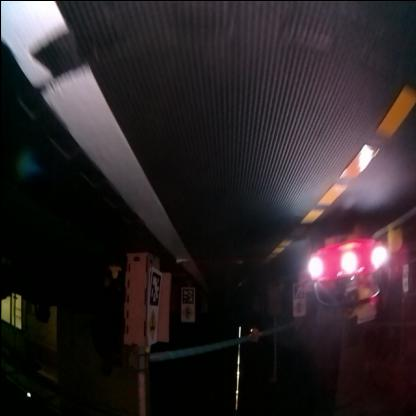Duckie: (386, 228, 402, 250), (110, 265, 122, 279)
Duckiebot: (308, 234, 386, 307)
Intersection sign: (147, 308, 156, 341), (182, 306, 193, 321)
QR code: (149, 271, 162, 307), (181, 290, 193, 304)
